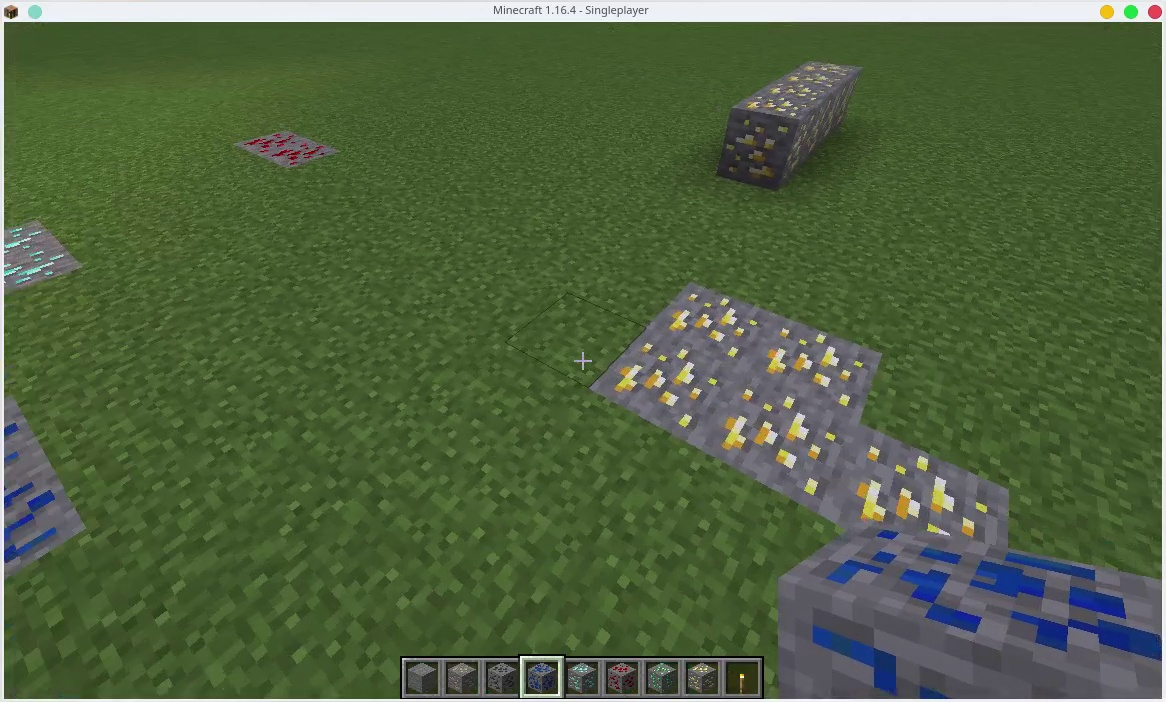gold: (859, 440, 1003, 534), (607, 342, 725, 438), (728, 389, 828, 499), (755, 326, 866, 398), (719, 99, 812, 176), (662, 287, 750, 358), (803, 60, 846, 92), (814, 98, 848, 134), (765, 80, 817, 101), (686, 661, 715, 695)
